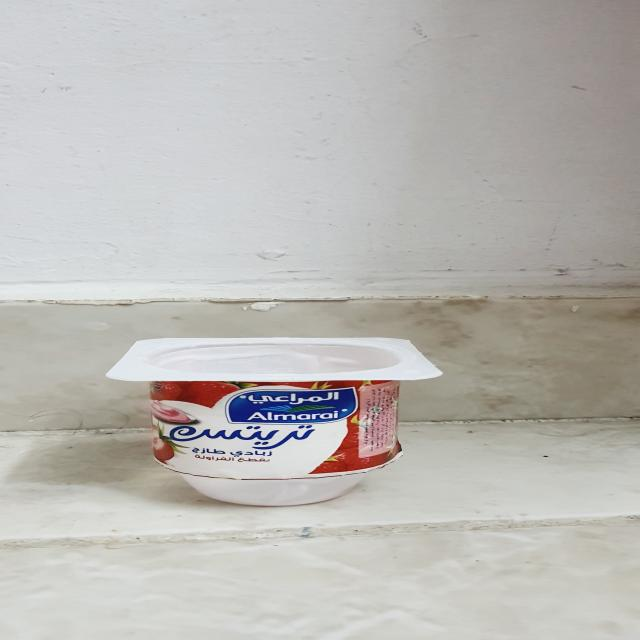plastic: (104, 336, 443, 506)
